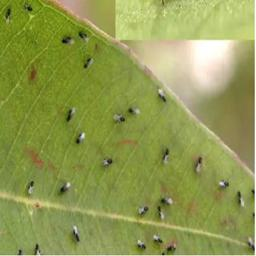liriomyza: (71, 224, 83, 240), (236, 188, 246, 207), (25, 179, 36, 196), (128, 105, 143, 116), (32, 242, 43, 256), (82, 56, 93, 70), (162, 146, 170, 165), (195, 155, 203, 174), (62, 33, 74, 45), (161, 196, 175, 206), (157, 88, 167, 102), (59, 180, 70, 192), (101, 155, 112, 167), (64, 108, 74, 121), (135, 205, 148, 215), (76, 130, 85, 144), (218, 178, 230, 188), (113, 113, 126, 122), (247, 236, 255, 250), (157, 206, 165, 220), (152, 234, 166, 242), (136, 239, 147, 249), (79, 30, 89, 41)
